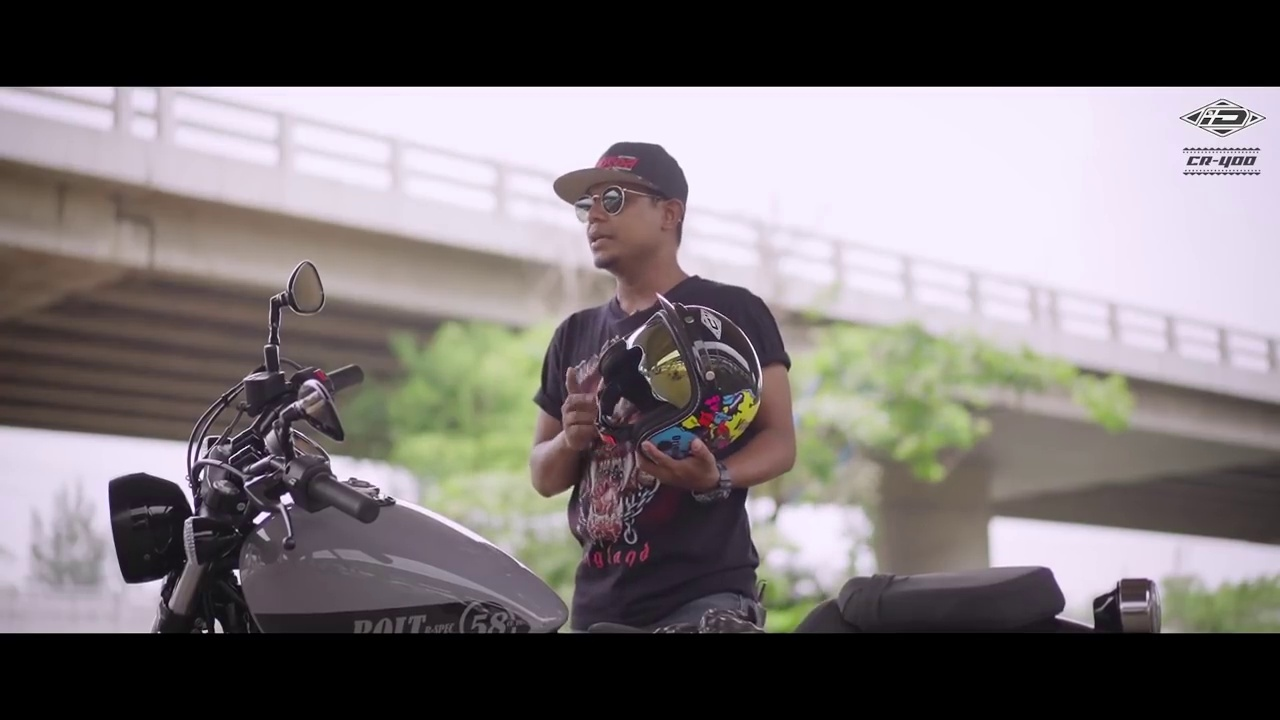helmet: (590, 297, 765, 458)
